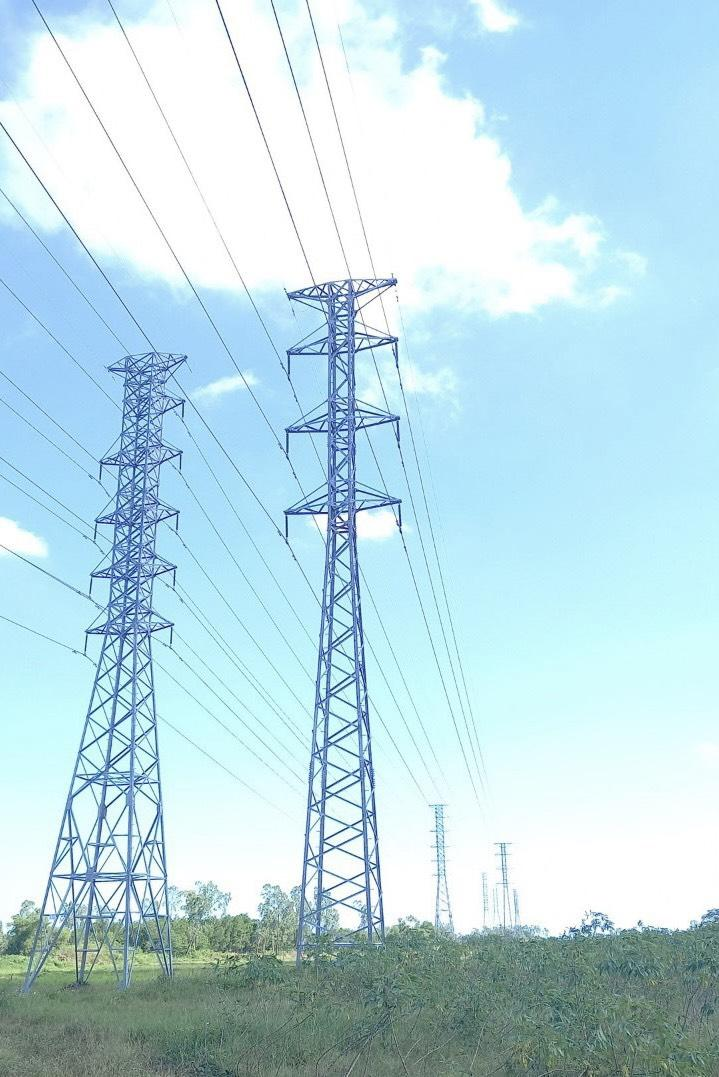power_tower: (292, 270, 400, 960)
